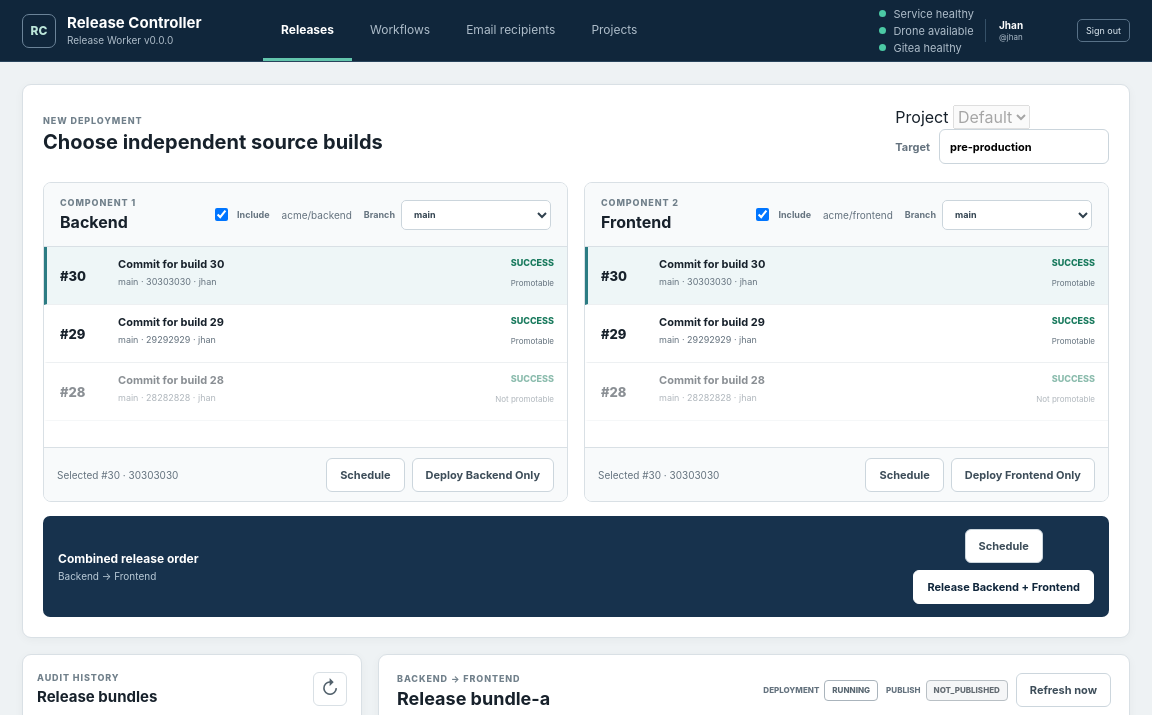
Test: 輪詢與重新整理 › 資料沒變時不重建 detail，也不重建 BPMN viewer
Expected: the button with class "build-row" below "acme/frontend" is shown, [585,247,1108,305]
Click the button with id "refresh-release" at (1063, 690), box [1016,673,1111,707]
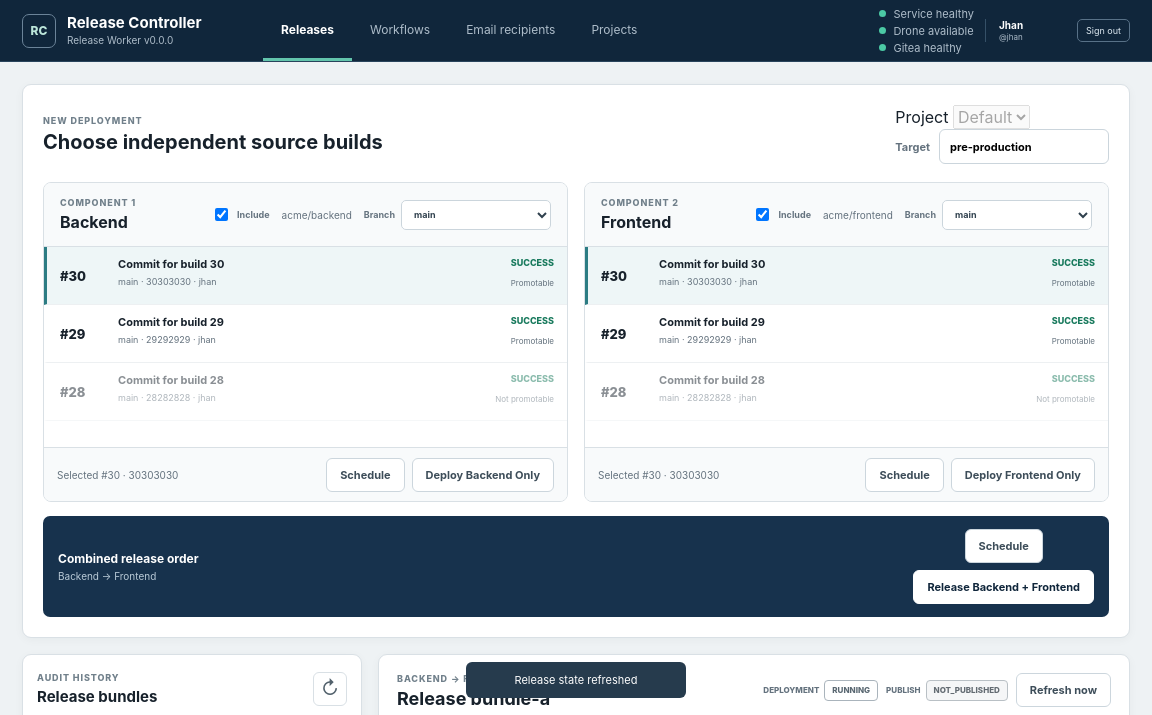
Result: the message with id "toast" shows "refreshed" at [514,673,637,687]
